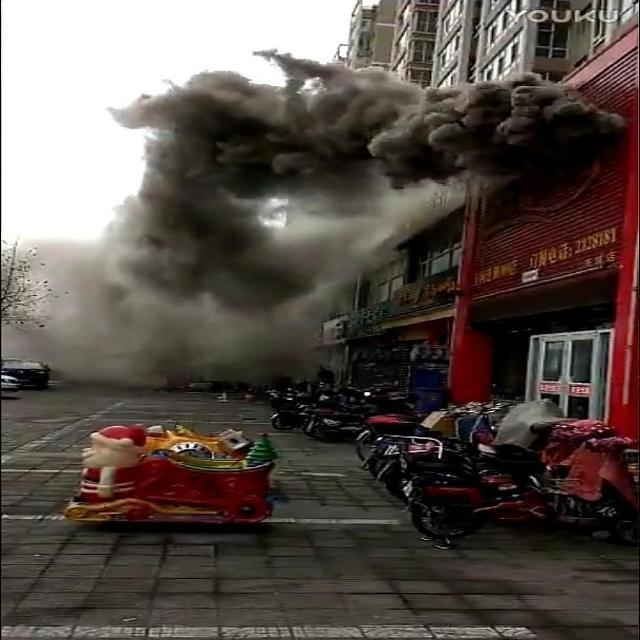Smoke: (2, 48, 625, 388)
